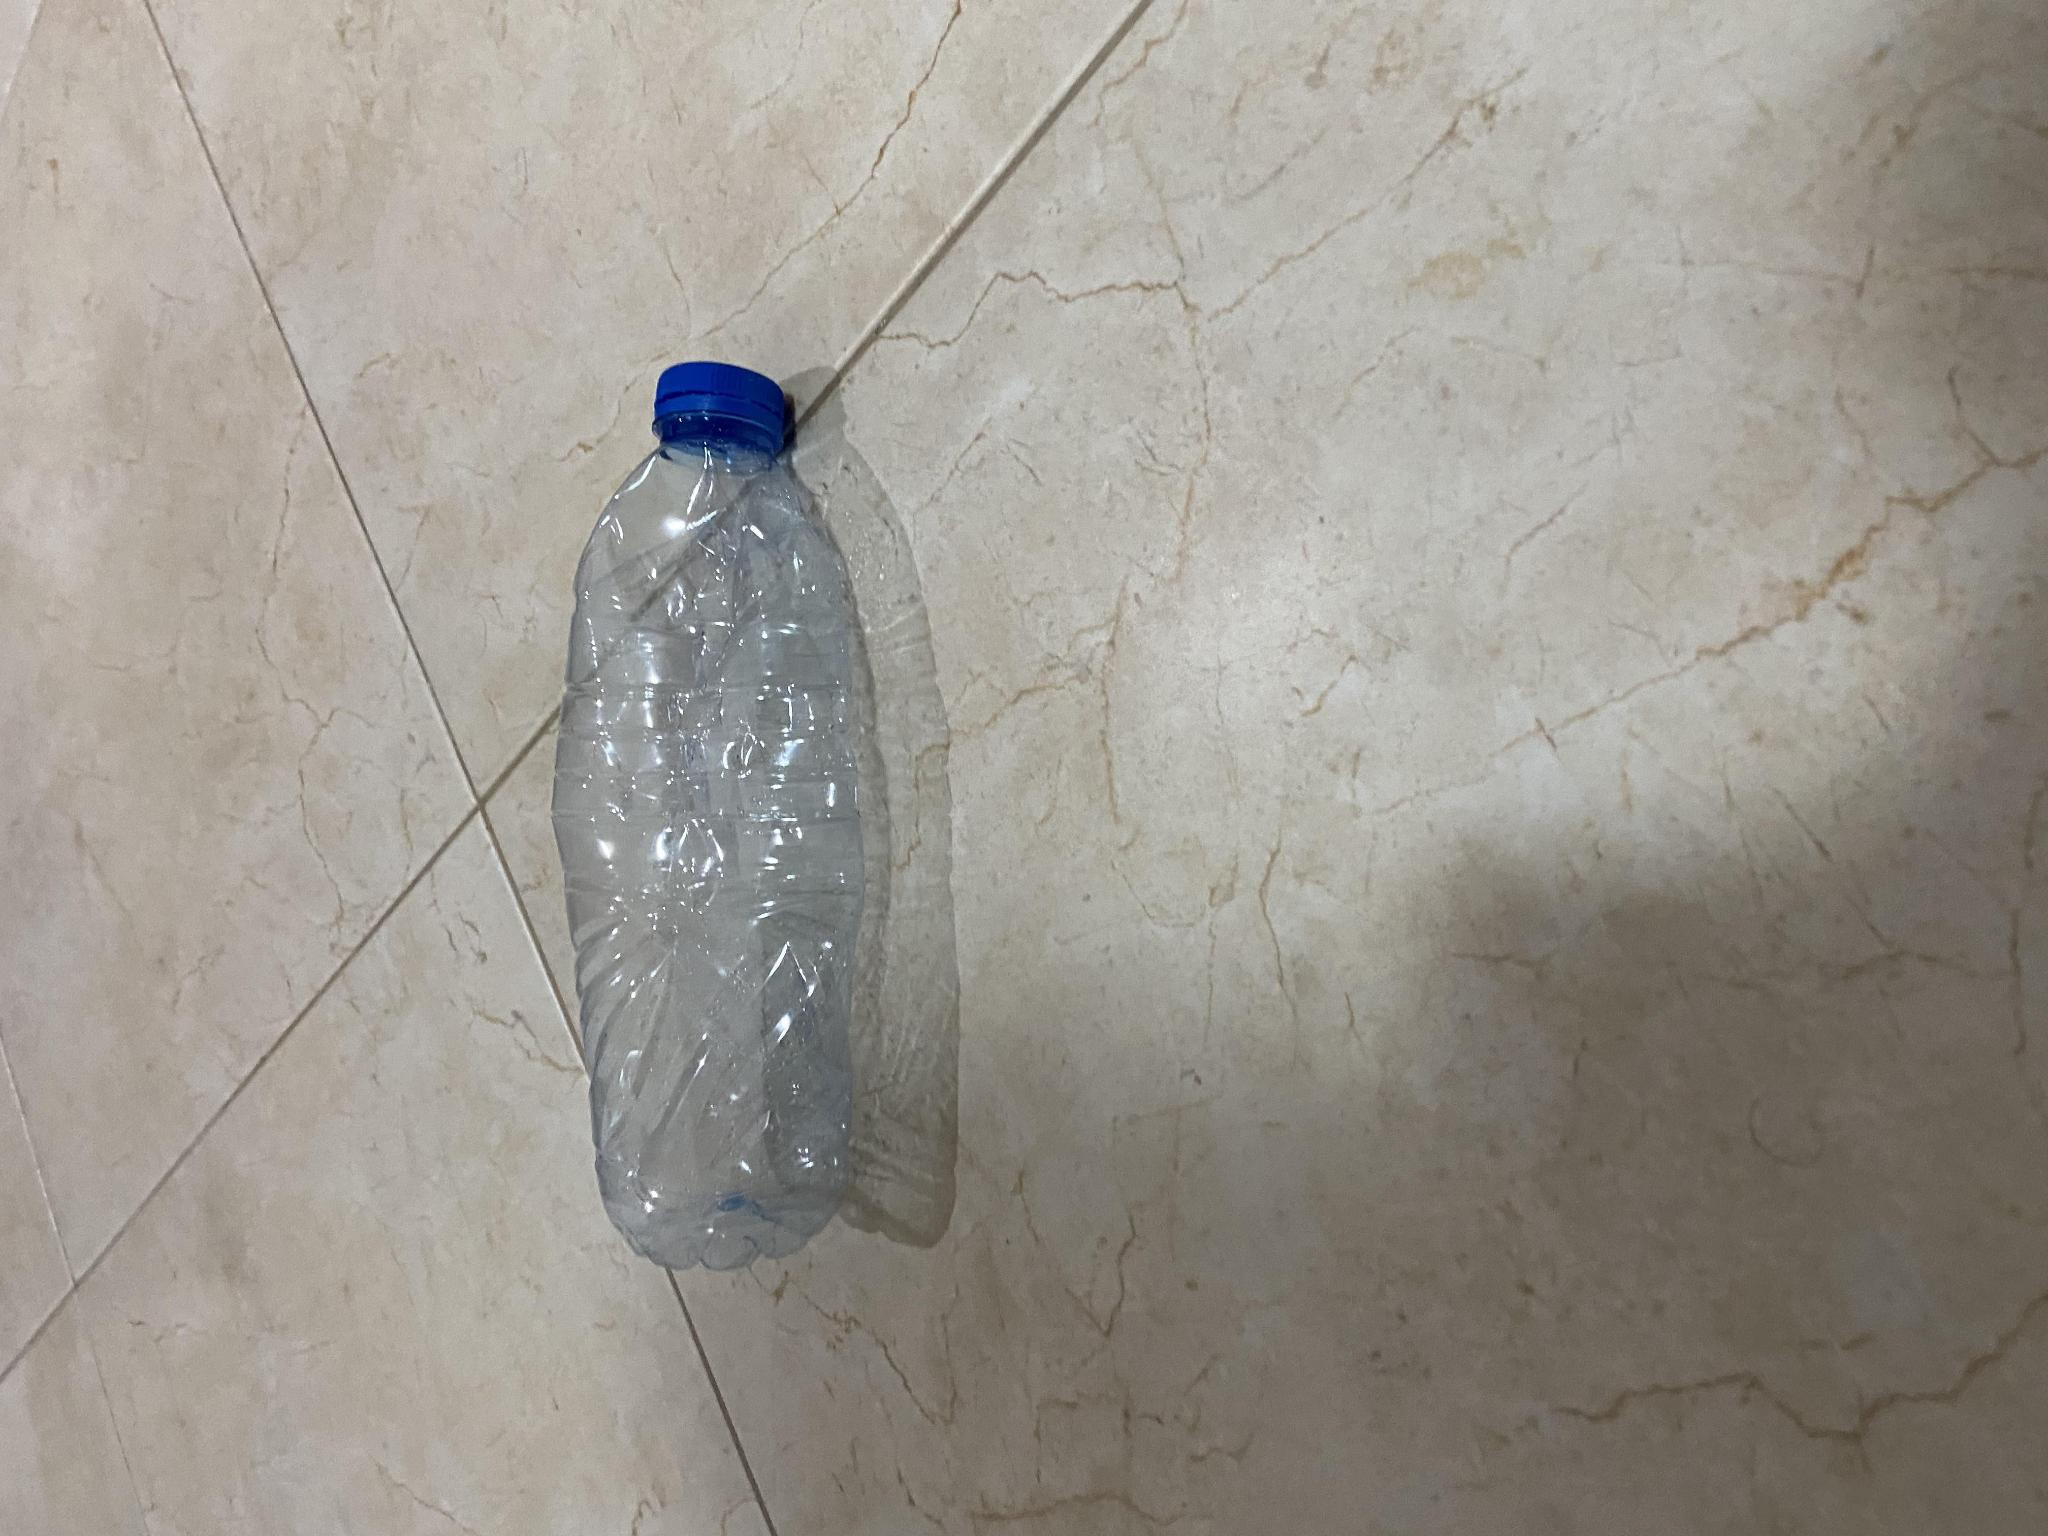bottle: (545, 334, 901, 1288)
